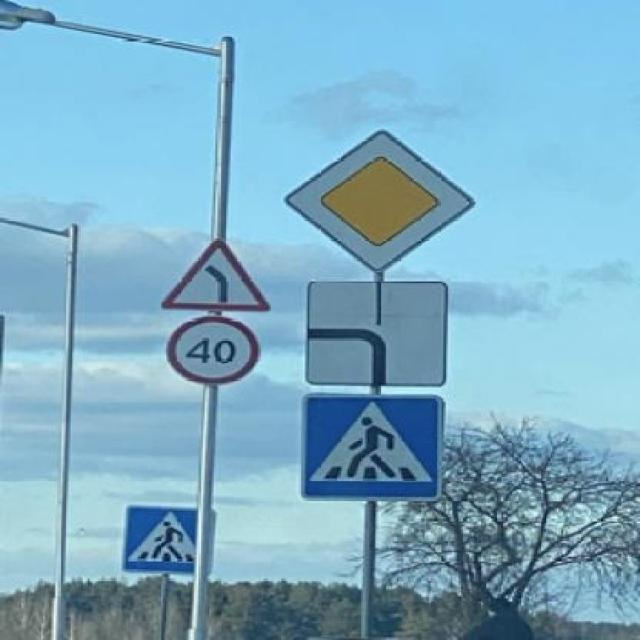forb_speed_over_40: (171, 319, 258, 383)
